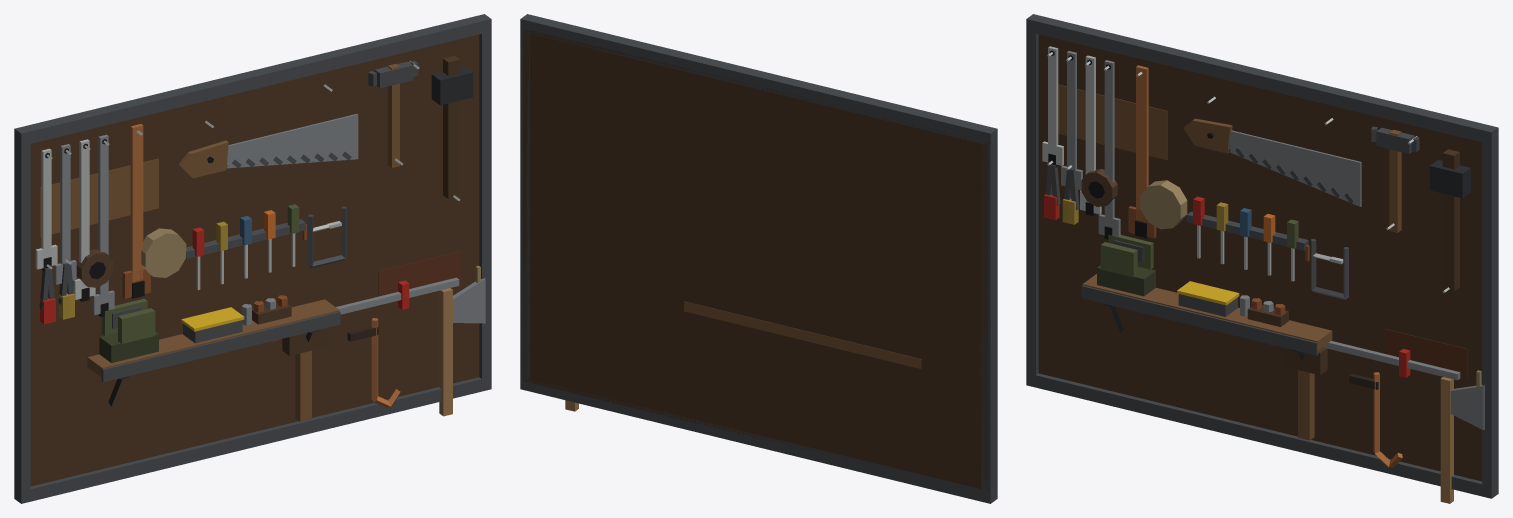
File: prop_tool_wall.fbx
3 views of the same model, side by side, from view 1: azimuth 30°, elevation 25°; view 2: azimuth 150°, elevation 25°; view 3: azimuth 330°, elevation 25° (orthographic).
Parts seen in each view (by area): view 1: prop_tool_wall; view 2: prop_tool_wall; view 3: prop_tool_wall.
Boxes of the visible parts, <box> form: prop_tool_wall: <box>14,14,491,503</box>; prop_tool_wall: <box>520,14,997,503</box>; prop_tool_wall: <box>1026,14,1498,503</box>.
Size of the model in its own units: 1.98 by 1.55 by 0.147.
